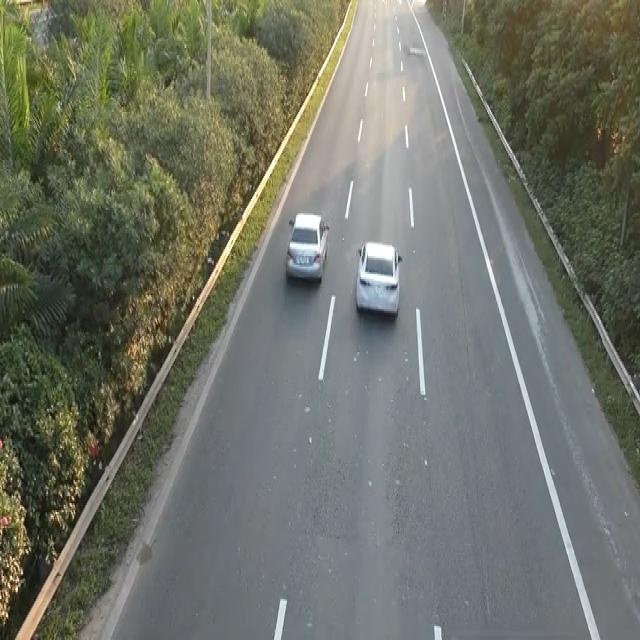bus: (353, 236, 402, 318), (284, 208, 330, 284)
